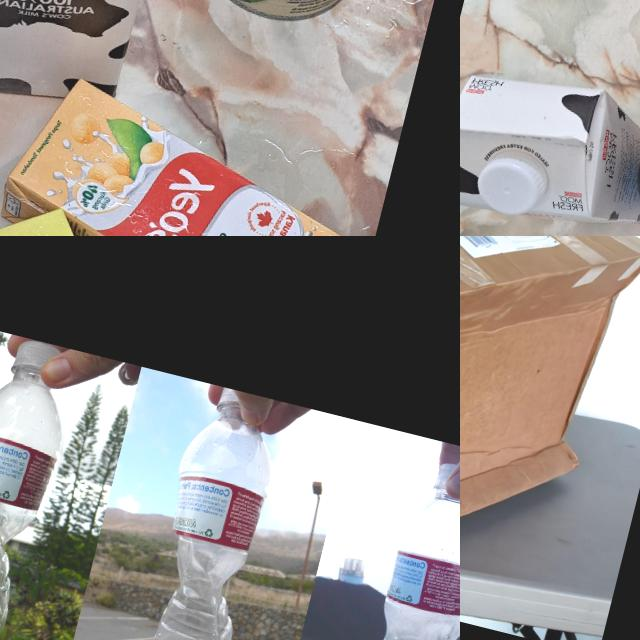caixinha: (0, 64, 389, 236), (460, 53, 640, 236), (0, 0, 222, 128), (0, 180, 126, 236)
garrafa plástica: (123, 395, 292, 640), (0, 355, 77, 640), (352, 479, 460, 640)
papelão: (460, 236, 640, 640)
tampa plástica: (470, 150, 548, 220), (11, 336, 64, 382), (432, 458, 460, 499), (214, 386, 243, 416)
